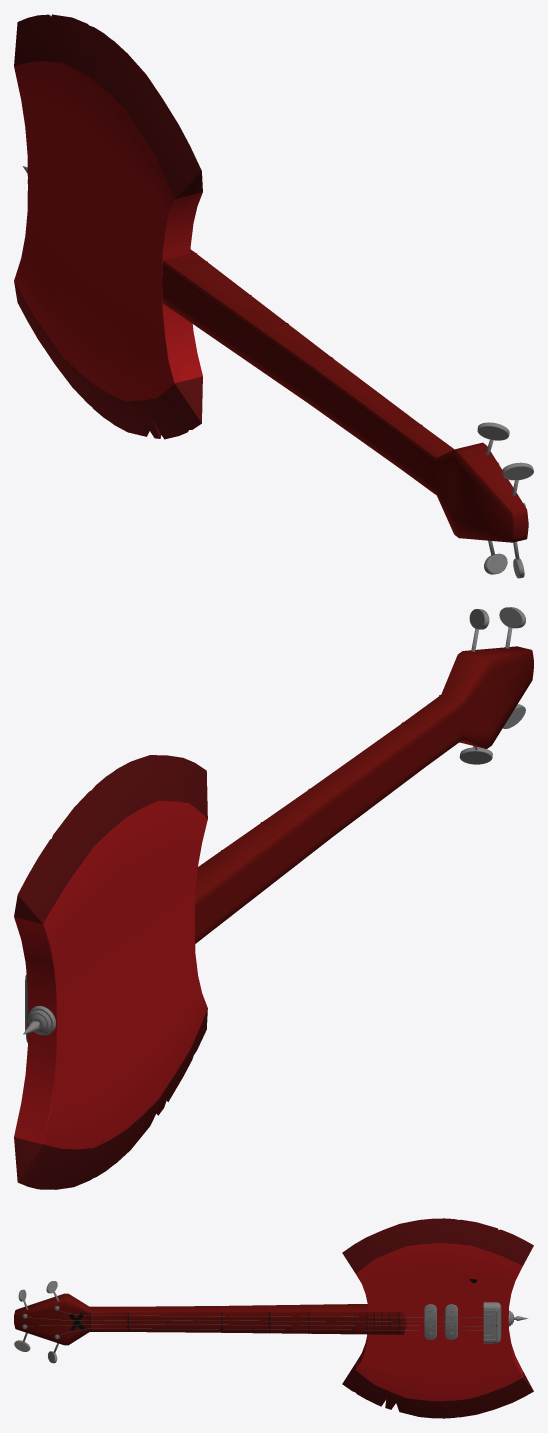
The picture shows the model from 3 angles, top to bottom: view 1: azimuth 30°, elevation 25°; view 2: azimuth 150°, elevation 25°; view 3: azimuth 270°, elevation 25°; orthographic projection. The views are drawn at different scales.
Parts seen in each view (by area): view 1: Machado-guitarra; view 2: Machado-guitarra; view 3: Machado-guitarra.
Boxes of the visible parts, x1,y1,x2,y2 form: Machado-guitarra: [14, 14, 533, 578]; Machado-guitarra: [14, 607, 533, 1189]; Machado-guitarra: [14, 1218, 533, 1418].
Size of the model in its own units: 23.37 by 196 by 461.
